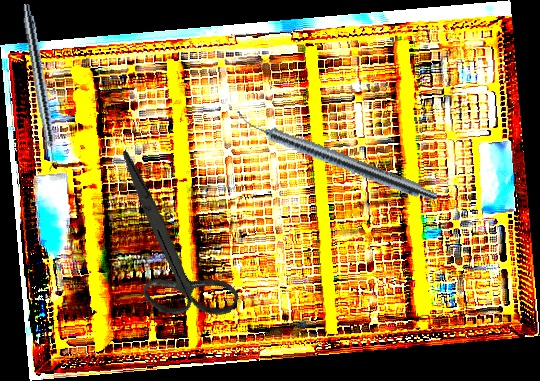Handpiece: (230, 108, 442, 206), (17, 2, 62, 173)
Iris Scissors: (63, 148, 275, 343)
